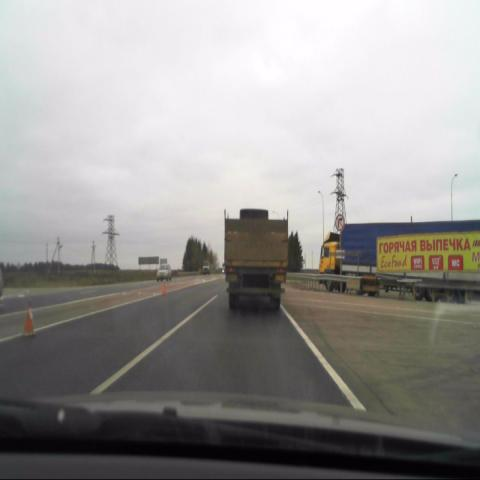3_18: (334, 212, 345, 230)
